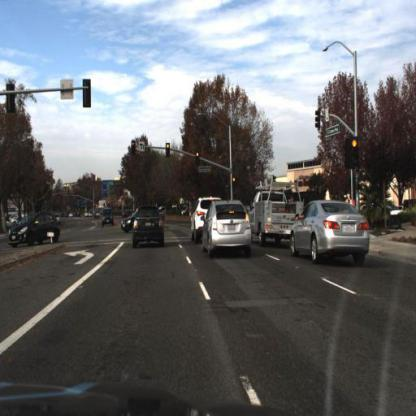car: (290, 199, 373, 269), (246, 175, 304, 246), (201, 197, 253, 257), (248, 189, 303, 244), (10, 211, 61, 250), (130, 203, 166, 249), (133, 204, 169, 250), (189, 196, 214, 247), (189, 198, 210, 250), (117, 210, 141, 233), (121, 210, 139, 239), (102, 205, 115, 226), (53, 211, 63, 228)
trafficLight: (231, 171, 238, 189)
trafficLight-Red: (346, 135, 361, 168), (350, 137, 361, 164), (231, 172, 240, 195), (165, 143, 173, 159), (195, 150, 202, 168), (196, 148, 202, 168), (166, 143, 172, 161)
trafficLight-RedLeft: (131, 138, 139, 160), (131, 139, 138, 160)
